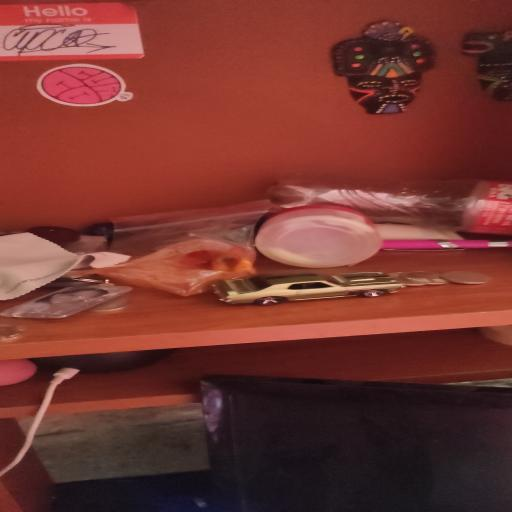Carrito: (213, 272, 405, 306)
